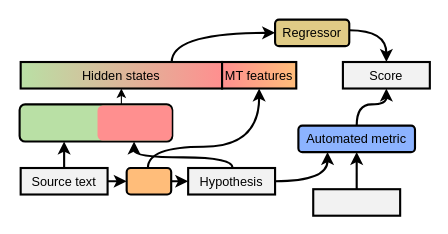
Some shapes in this 448 by 234 pixel diagram are drawn without their labels. Here are the shapes that lost their labels. From the top down, the centre of each, then its label:
pixel 134 122: BiLSTM
pixel 148 180: MT
pixel 356 202: Reference
